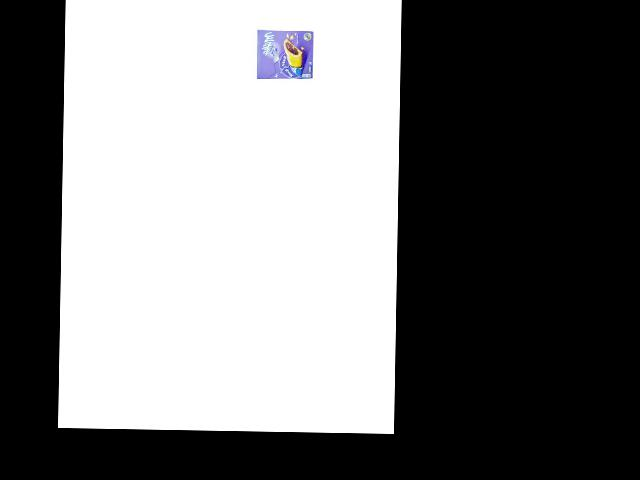chocolate: (252, 26, 317, 81)
